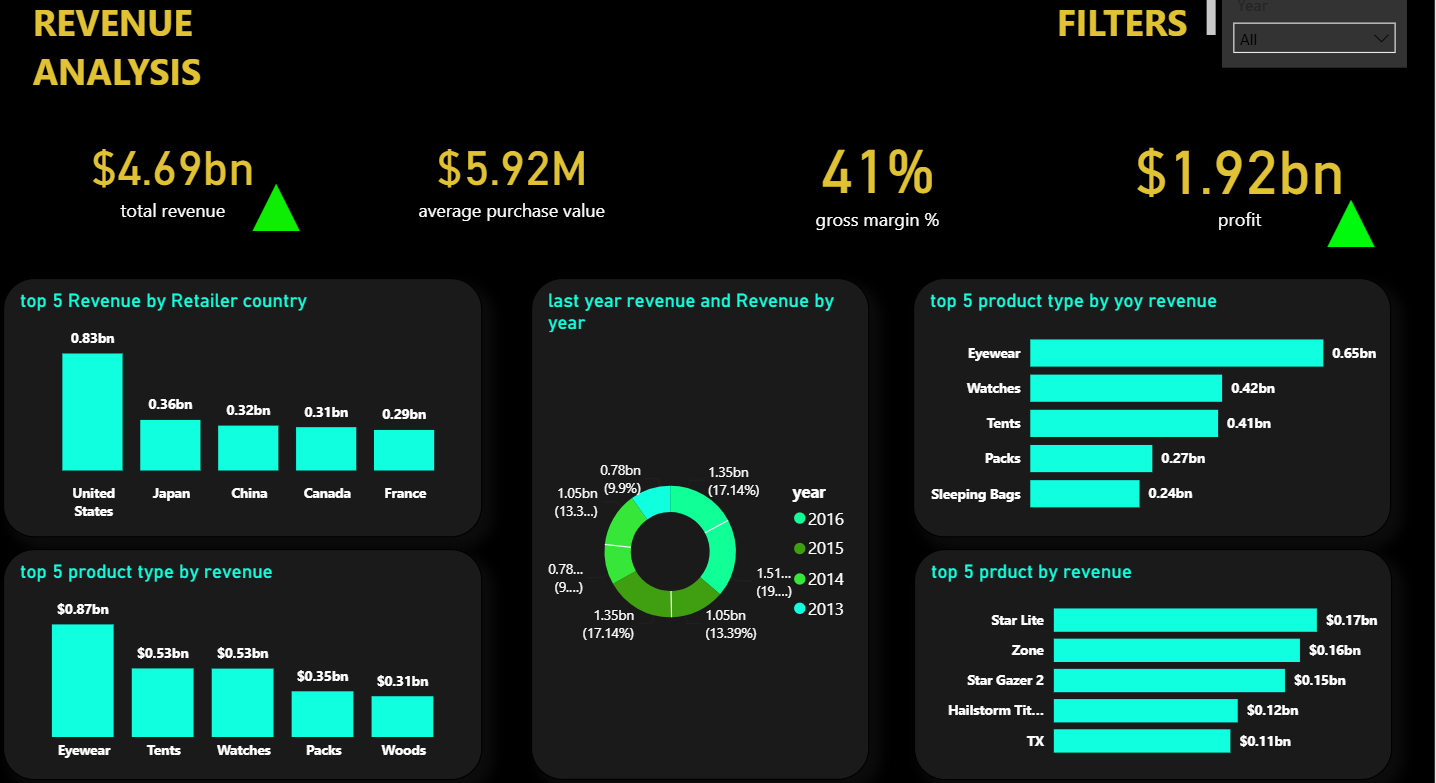

The dashboard page shown, as its layout file describes it:
{"tool":"powerbi","page":{"name":"REVENUE","canvas":[1280,720],"ordinal":0},"visuals":[{"type":"card","fields":{"Values":["all measures.average purchase value"]},"box":[323.7,85.7,276.1,153.5],"z":0},{"type":"card","fields":{"Values":["all measures.gross margin %"]},"box":[640.3,86.9,291.6,153.5],"z":1000},{"type":"card","fields":{"Values":["all measures.profit"]},"box":[972.3,86.9,269,154.7],"z":2000},{"type":"textbox","box":[32.1,0,257.1,169],"z":3000},{"type":"textbox","box":[940.2,0,151.1,47.6],"z":4000},{"type":"lineStackedColumnComboChart","title":"top 5 Revenue by Retailer country","fields":{"Category":["Retail-SalesMarketing Profi.Retailer country"],"Y":["Sum(Retail-SalesMarketing Profi.Revenue)"]},"box":[10.7,254.7,424.9,229.7],"z":5000},{"type":"columnChart","title":"top 5 product type by revenue","fields":{"Category":["Retail-SalesMarketing Profi.Product type"],"Y":["all measures.total revenue"]},"box":[10.7,495.1,424.9,204.7],"z":6000},{"type":"card","fields":{"Values":["all measures.total revenue"]},"box":[22.6,85.7,276.1,153.5],"z":7000},{"type":"slicer","fields":{"Values":["Retail-SalesMarketing Profi.Year"]},"box":[1091.3,0,164.2,67.8],"z":8000},{"type":"donutChart","fields":{"Y":["all measures.yoy revenue","Sum(Retail-SalesMarketing Profi.Revenue)"],"Category":["calender.year"]},"box":[478.4,254.7,299.9,445.1],"z":9000},{"type":"clusteredBarChart","title":"top 5 product type by yoy revenue","fields":{"Y":["all measures.yoy revenue"],"Category":["Retail-SalesMarketing Profi.Product type"]},"box":[817.6,254.7,423.7,229.7],"z":10000},{"type":"barChart","title":"top 5 prduct by revenue","fields":{"Category":["Retail-SalesMarketing Profi.Product"],"Y":["all measures.total revenue"]},"box":[818,495,424,205],"z":11000},{"type":"card","fields":{"Values":["all measures.revenue arrow"]},"box":[216.6,163,72.6,69],"z":15000},{"type":"card","fields":{"Values":["all measures.profit arrow"]},"box":[1147.2,163,116.6,76.2],"z":16000}]}

Visuals, with their boxes on the page's 1280x720 design canvas (x1, y1, x2, y2). These are canvas units, not pixel positions in the 1436x783 screenshot, which may show the page scaled, cropped or inside an application window:
card - all measures.average purchase value: bbox=[324, 86, 600, 239]
card - all measures.gross margin %: bbox=[640, 87, 932, 240]
card - all measures.profit: bbox=[972, 87, 1241, 242]
textbox: bbox=[32, 0, 289, 169]
textbox: bbox=[940, 0, 1091, 48]
"top 5 Revenue by Retailer country" lineStackedColumnComboChart: bbox=[11, 255, 436, 484]
"top 5 product type by revenue" columnChart: bbox=[11, 495, 436, 700]
card - all measures.total revenue: bbox=[23, 86, 299, 239]
slicer - Retail-SalesMarketing Profi.Year: bbox=[1091, 0, 1256, 68]
donutChart - all measures.yoy revenue x Sum(Retail-SalesMarketing Profi.Revenue): bbox=[478, 255, 778, 700]
"top 5 product type by yoy revenue" clusteredBarChart: bbox=[818, 255, 1241, 484]
"top 5 prduct by revenue" barChart: bbox=[818, 495, 1242, 700]
card - all measures.revenue arrow: bbox=[217, 163, 289, 232]
card - all measures.profit arrow: bbox=[1147, 163, 1264, 239]
